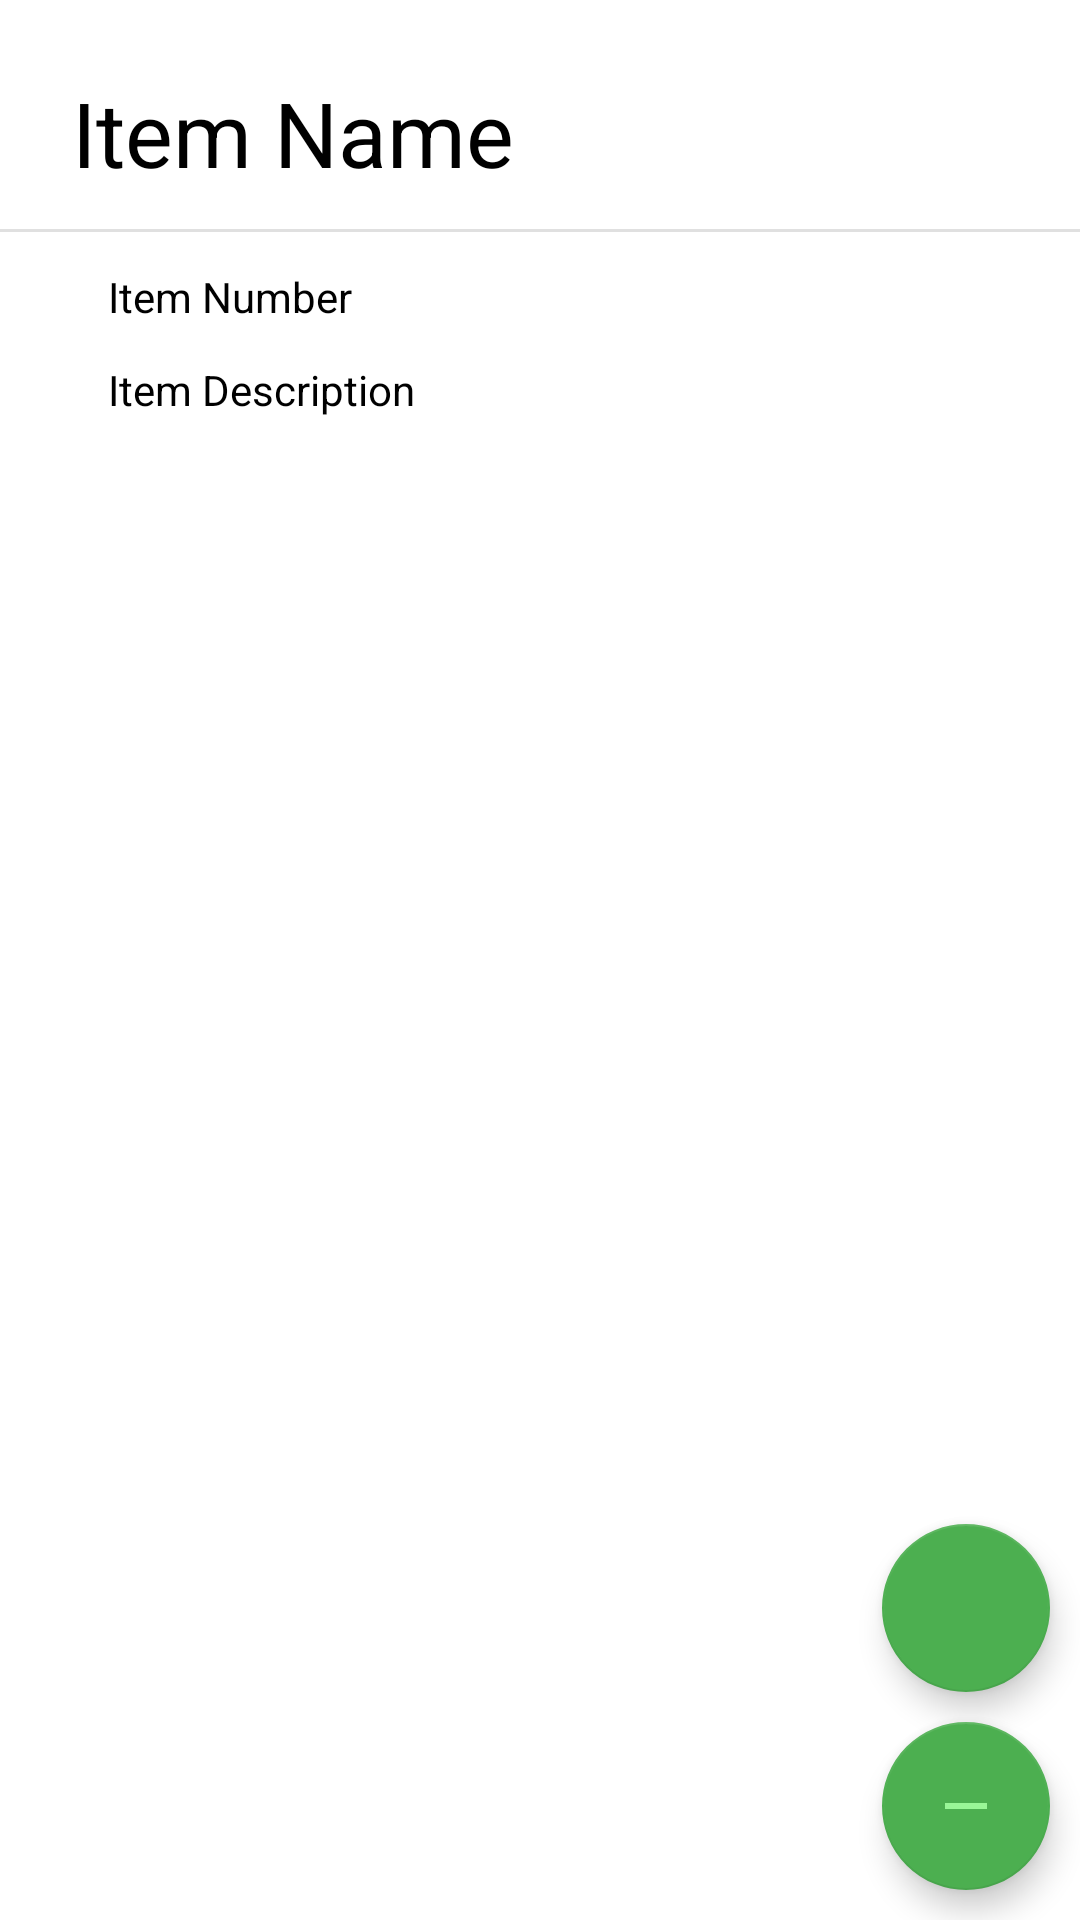

Where to tap for icons on this 1080px x 1920px app screen, as point (x, y):
remove: point (966, 1806)
